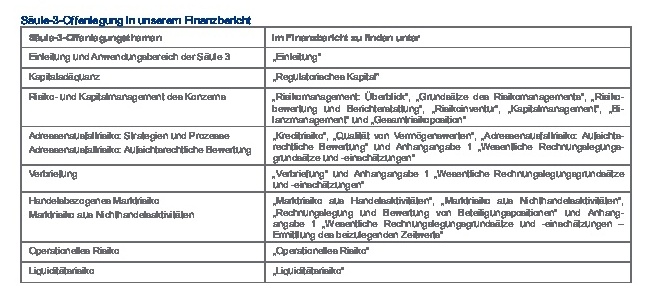table: (0, 0, 648, 297)
